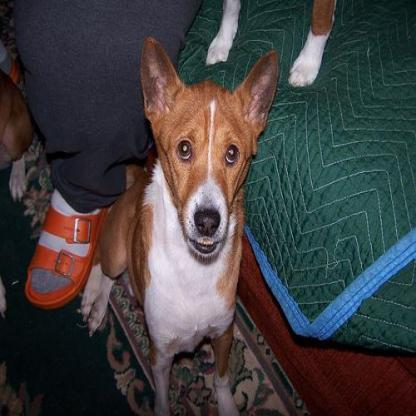basenji: (77, 34, 278, 413)
